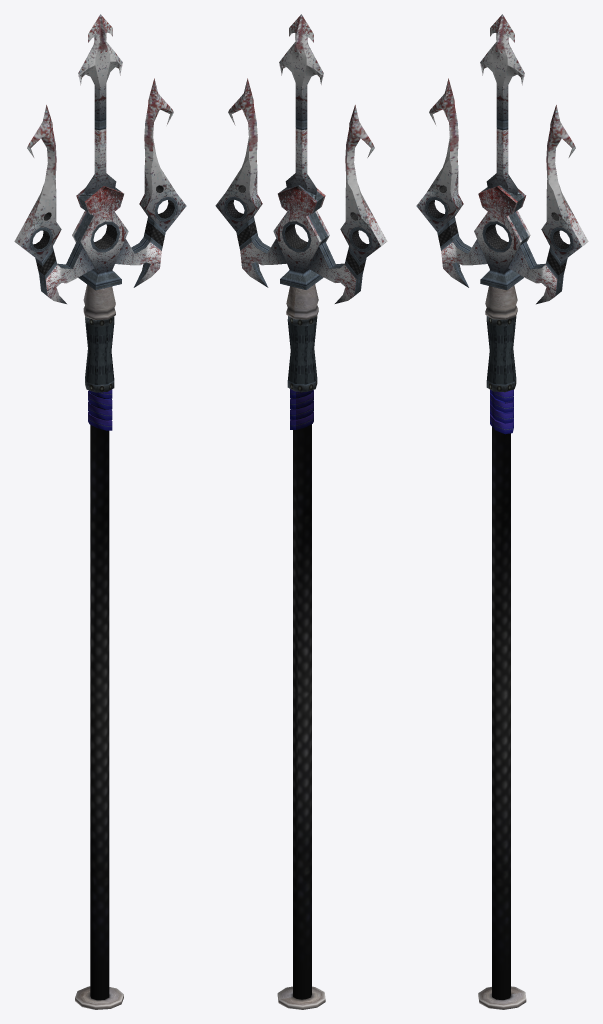
The model's file is Trident.fbx.
3 views of the same model, side by side, from view 1: azimuth 30°, elevation 25°; view 2: azimuth 150°, elevation 25°; view 3: azimuth 330°, elevation 25° (orthographic).
Parts seen in each view (by area): view 1: Cylinder.049; view 2: Cylinder.049; view 3: Cylinder.049.
Part boxes in pixels (x1,y1,x2,y2): Cylinder.049: (14,14,186,1009); Cylinder.049: (215,14,387,1009); Cylinder.049: (416,14,588,1009).
Bounding box in the file's own units: 54.75 × 311 × 14.12.
4 materials, 4 textured.
